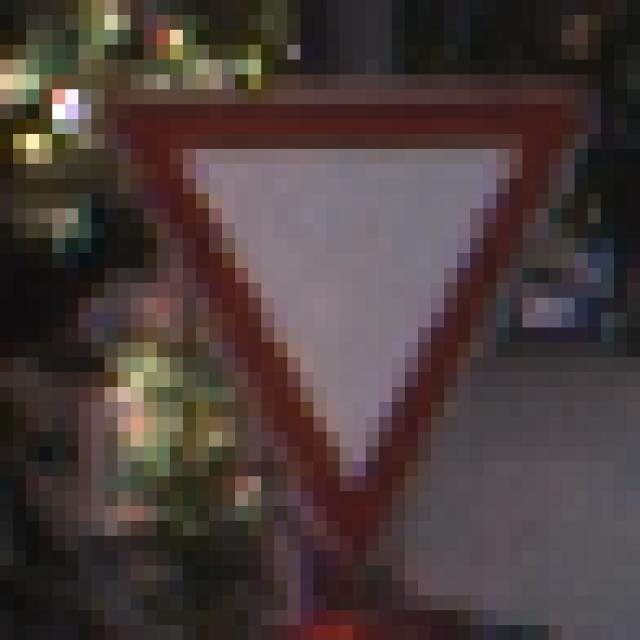Give Way: (79, 76, 576, 567)
